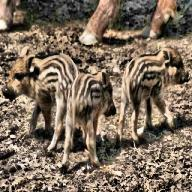boar: (115, 42, 190, 146), (58, 67, 116, 174)
